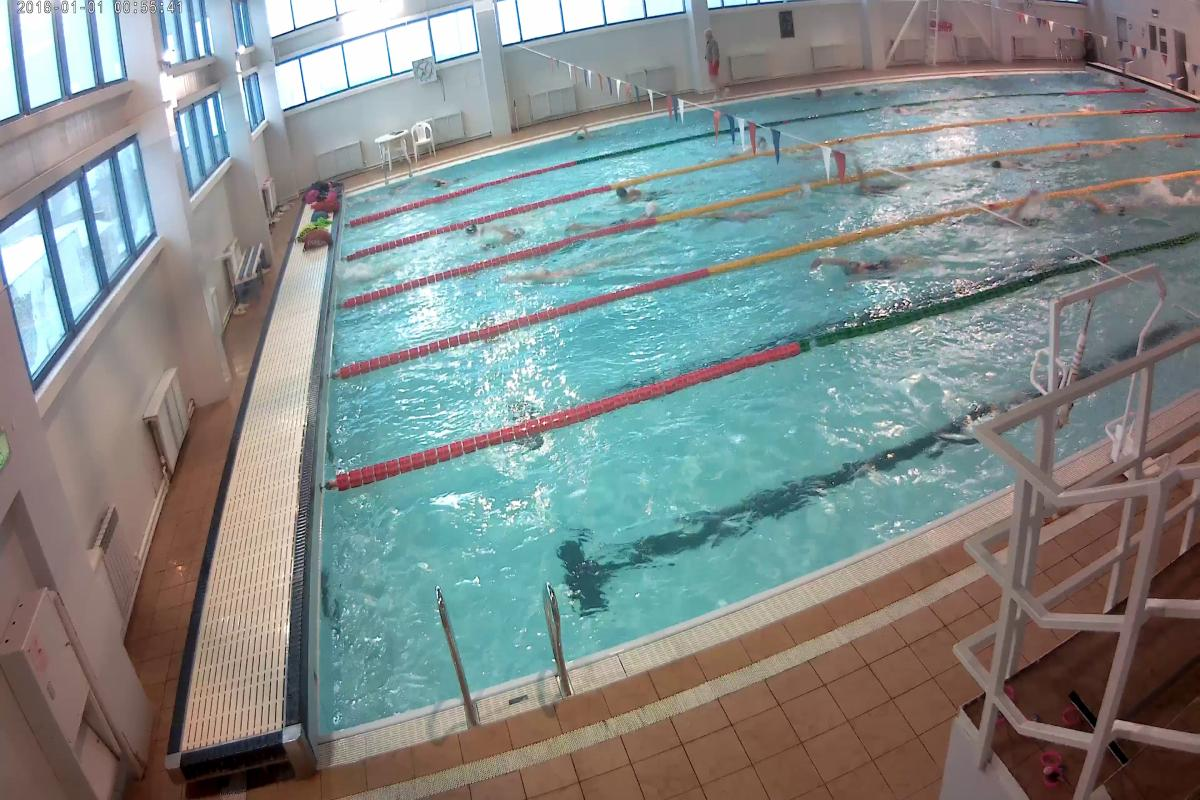swimmer: (826, 245, 941, 280), (727, 202, 804, 228), (511, 256, 594, 278), (983, 150, 1047, 178), (573, 209, 658, 229), (991, 208, 1063, 228), (474, 220, 536, 242), (1083, 198, 1129, 219), (855, 182, 910, 198), (1052, 147, 1108, 162), (614, 180, 658, 199)
